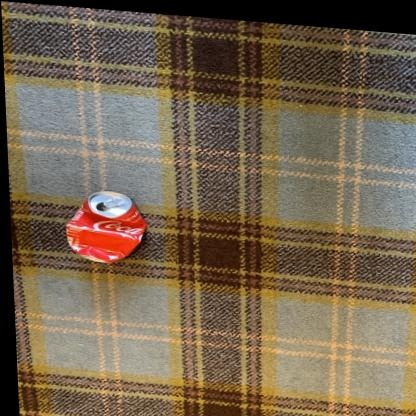trash: (66, 191, 145, 262)
